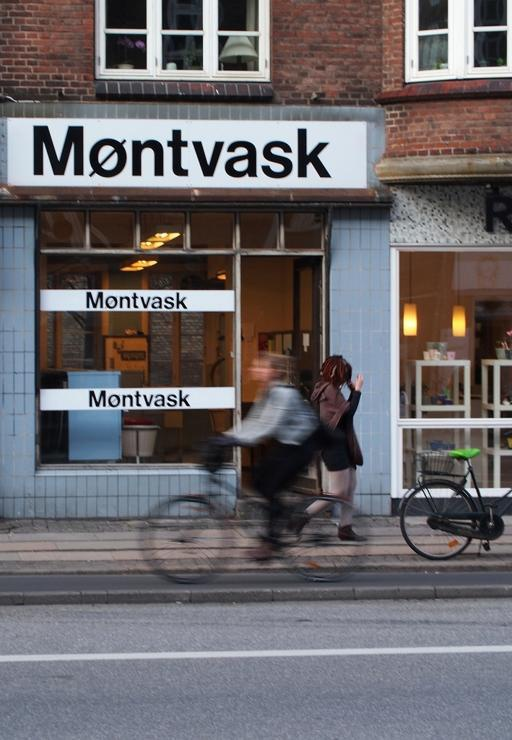non-vehicle: (140, 432, 373, 587), (396, 429, 512, 563)
